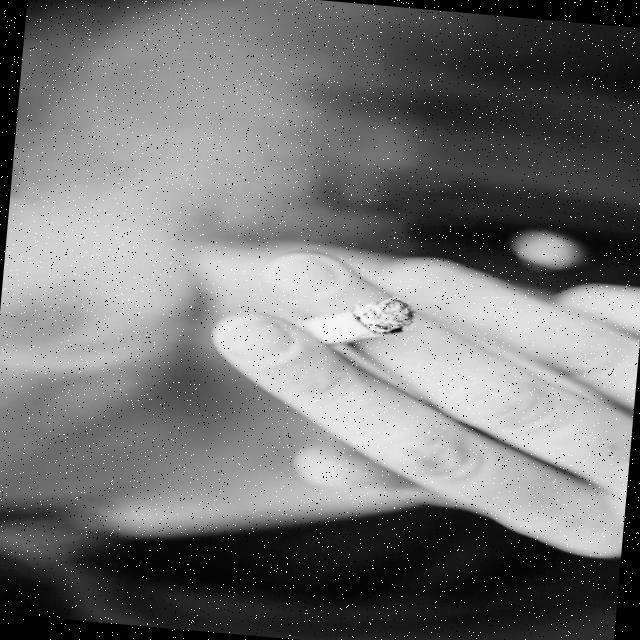cigarette: (284, 282, 416, 368)
